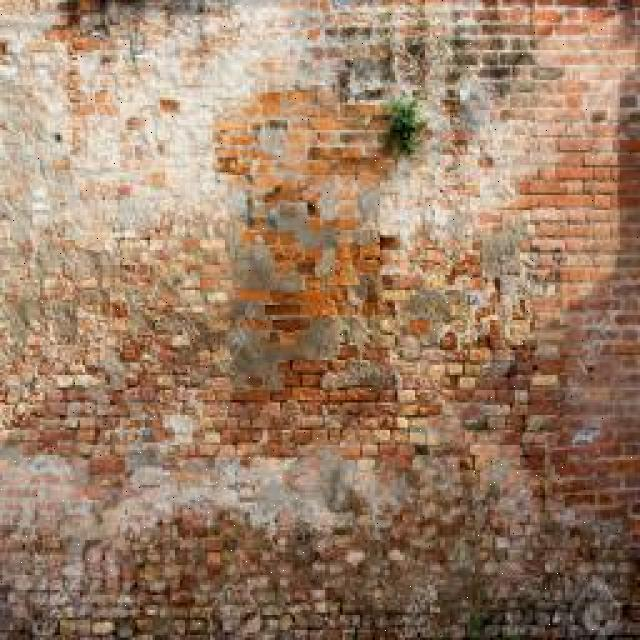crack: (0, 6, 633, 638), (2, 9, 253, 275), (430, 8, 553, 103), (64, 195, 131, 258), (565, 72, 630, 136)
dampness: (49, 292, 630, 638), (0, 338, 260, 636), (5, 226, 223, 413), (505, 147, 621, 305), (9, 375, 118, 461), (301, 121, 379, 168), (527, 166, 616, 204)
vegetation: (8, 520, 120, 639), (54, 0, 201, 48), (8, 281, 92, 357), (337, 51, 399, 100), (411, 29, 458, 90), (480, 226, 526, 285), (384, 95, 428, 156), (453, 76, 498, 135), (57, 1, 113, 35), (11, 296, 51, 341), (357, 184, 391, 225), (356, 243, 386, 277), (359, 272, 384, 306), (353, 227, 382, 250), (378, 233, 402, 253)
